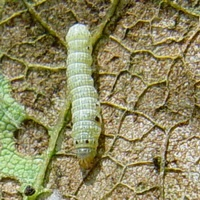insect: (66, 23, 100, 168)
